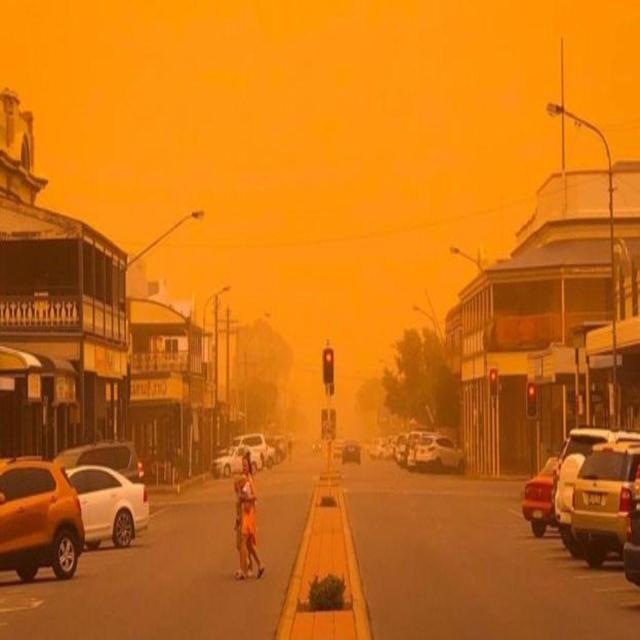Car: (554, 427, 640, 560), (0, 455, 86, 581), (571, 442, 640, 566), (64, 465, 151, 551), (52, 439, 144, 482), (523, 451, 559, 539), (416, 434, 466, 475), (212, 445, 263, 479), (623, 505, 640, 589), (233, 434, 268, 466), (342, 437, 362, 465), (264, 442, 276, 470), (333, 439, 344, 459), (311, 437, 323, 454)
